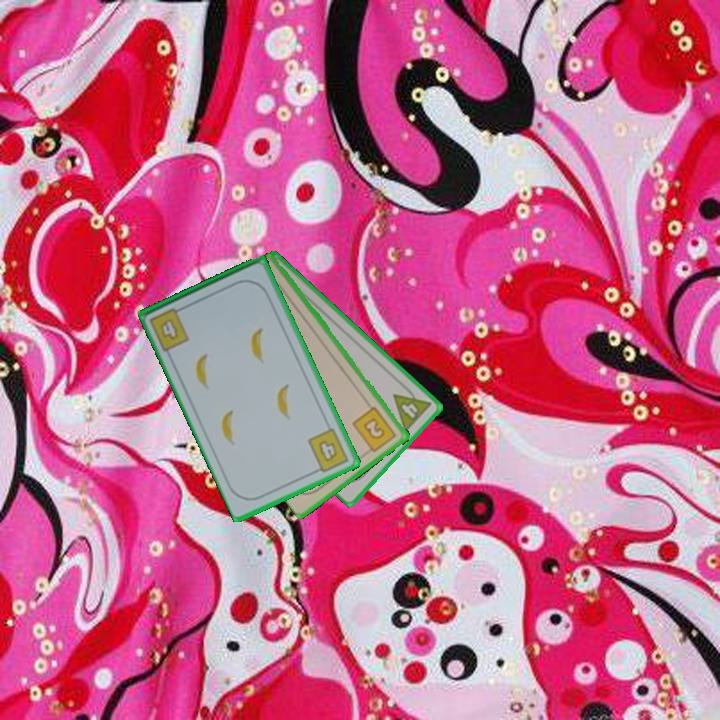2b: (349, 403, 400, 457)
4b: (304, 424, 352, 476), (146, 303, 192, 354)
4p: (390, 380, 434, 435)
